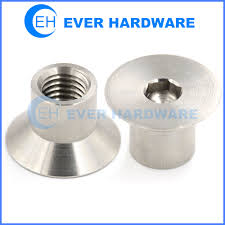Thread: (34, 65, 94, 104)
